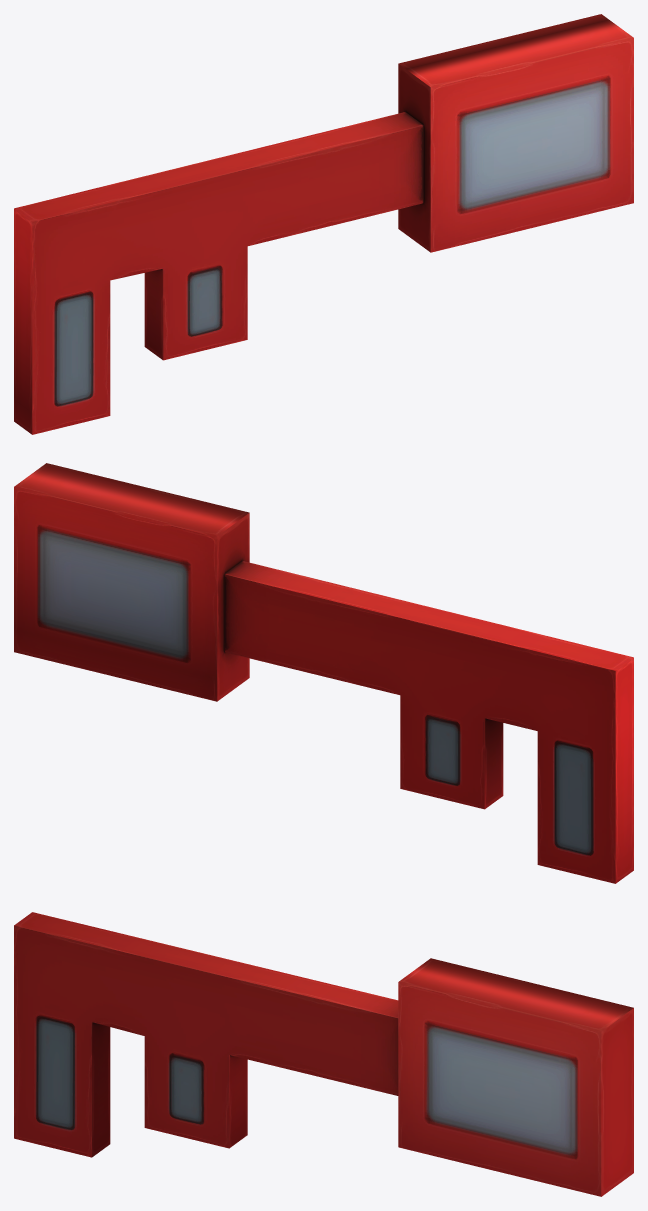
The model's file is SM_Key_01.glb.
3 views of the same model, one above another, from view 1: azimuth 30°, elevation 25°; view 2: azimuth 150°, elevation 25°; view 3: azimuth 330°, elevation 25° (orthographic).
Visible parts, largest first — view 1: SM_Key_01; view 2: SM_Key_01; view 3: SM_Key_01.
Boxes of the visible parts, box(x1,y1,x2,y2) form: SM_Key_01: box(14, 14, 633, 434); SM_Key_01: box(14, 463, 633, 883); SM_Key_01: box(14, 912, 633, 1196).
Size of the model in its own units: 0.5237 by 0.2165 by 0.0497.
Materials: 1 (1 with a texture image).
